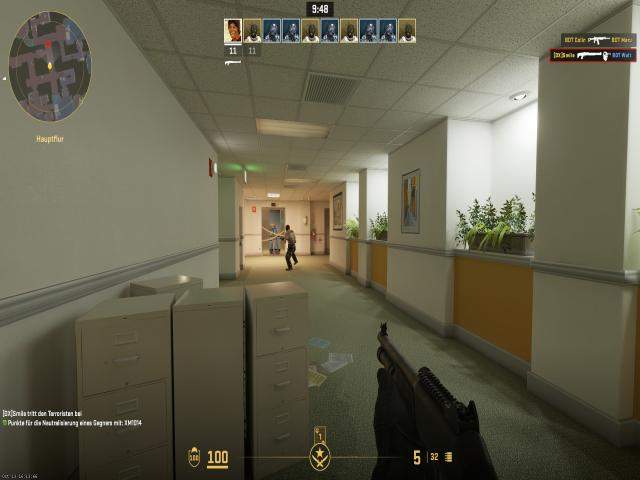T: (285, 225, 296, 267)
T-Head: (286, 225, 290, 231)
